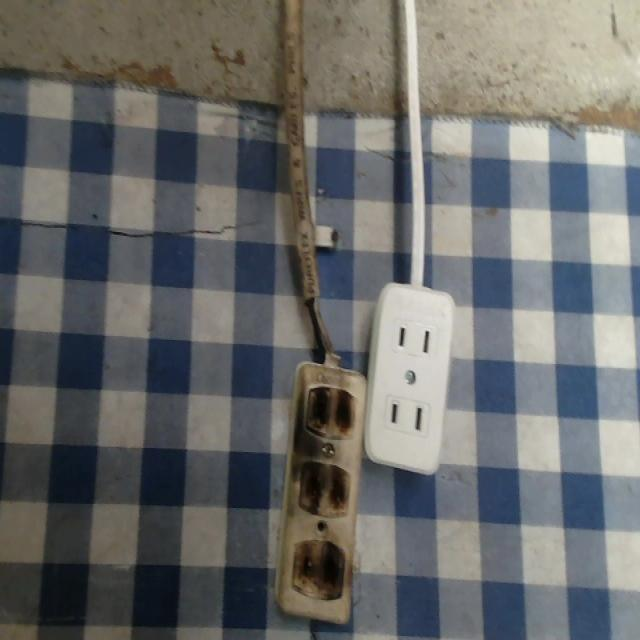-: (288, 533, 347, 607), (295, 453, 352, 519), (301, 379, 354, 441)
